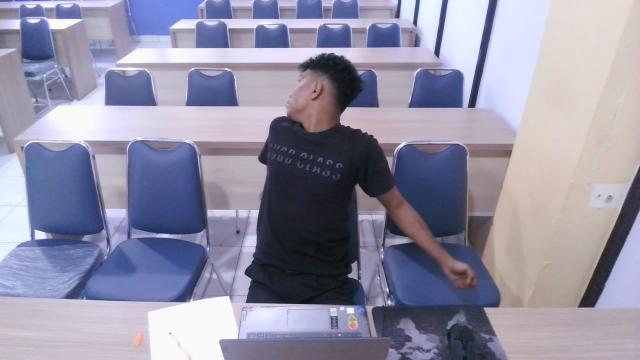Turning_Back: (240, 31, 384, 241)
